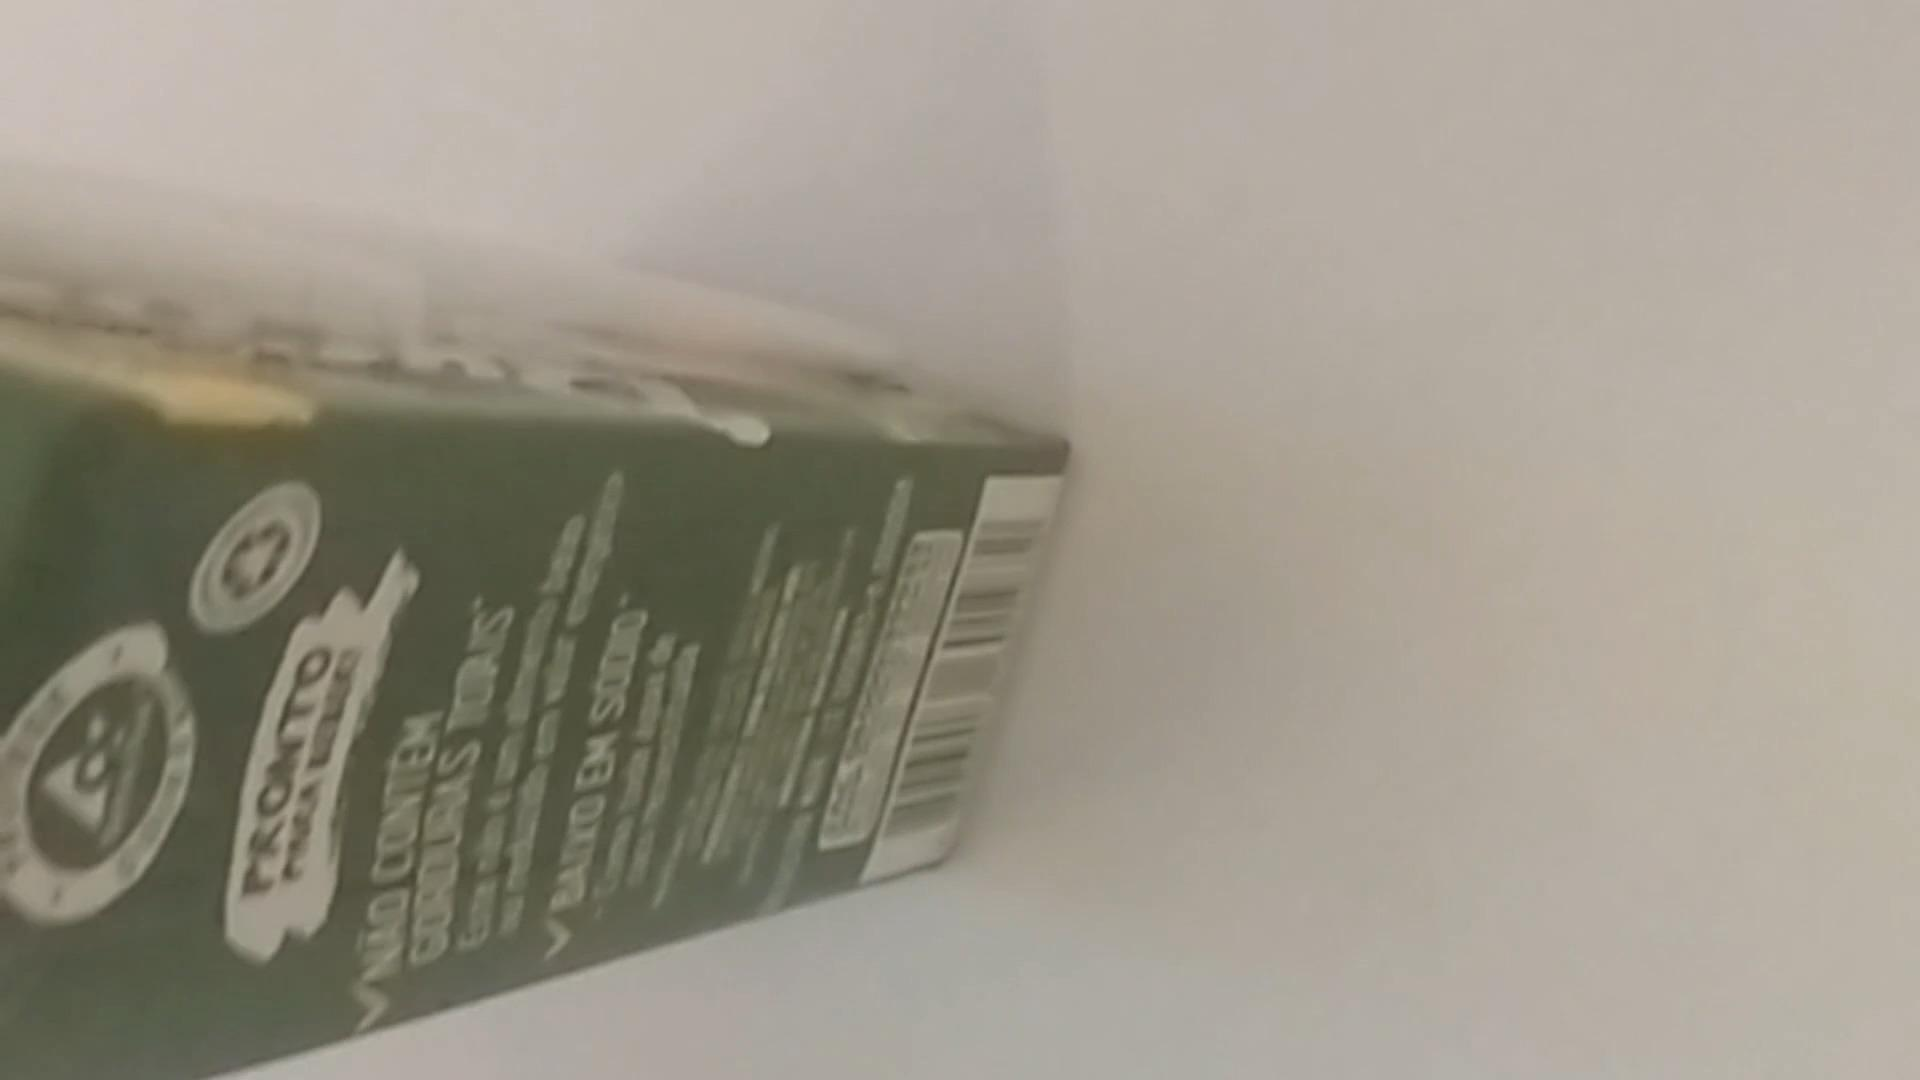coco: (5, 183, 1083, 1080)
